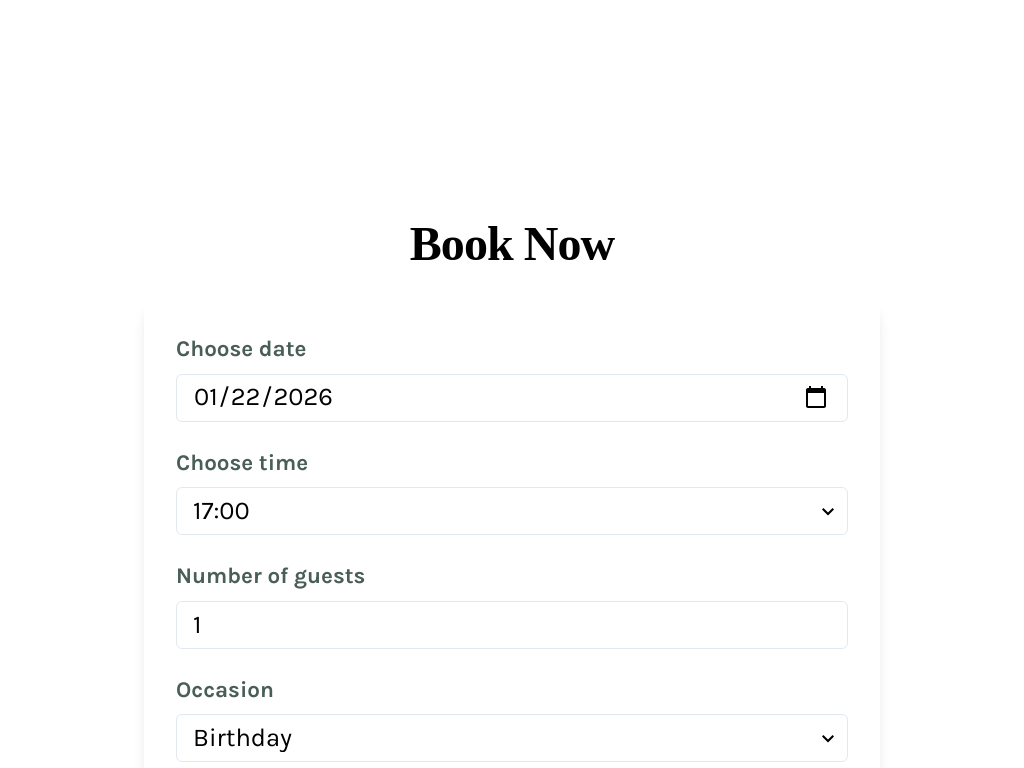
Scenario: BookingForm › Validation fields - guests must be at least 1
Clear the field and set invalid value
Type "0" into the number field with test id "guests" at [512, 625], box [176,601,848,649]
(page scrolled)
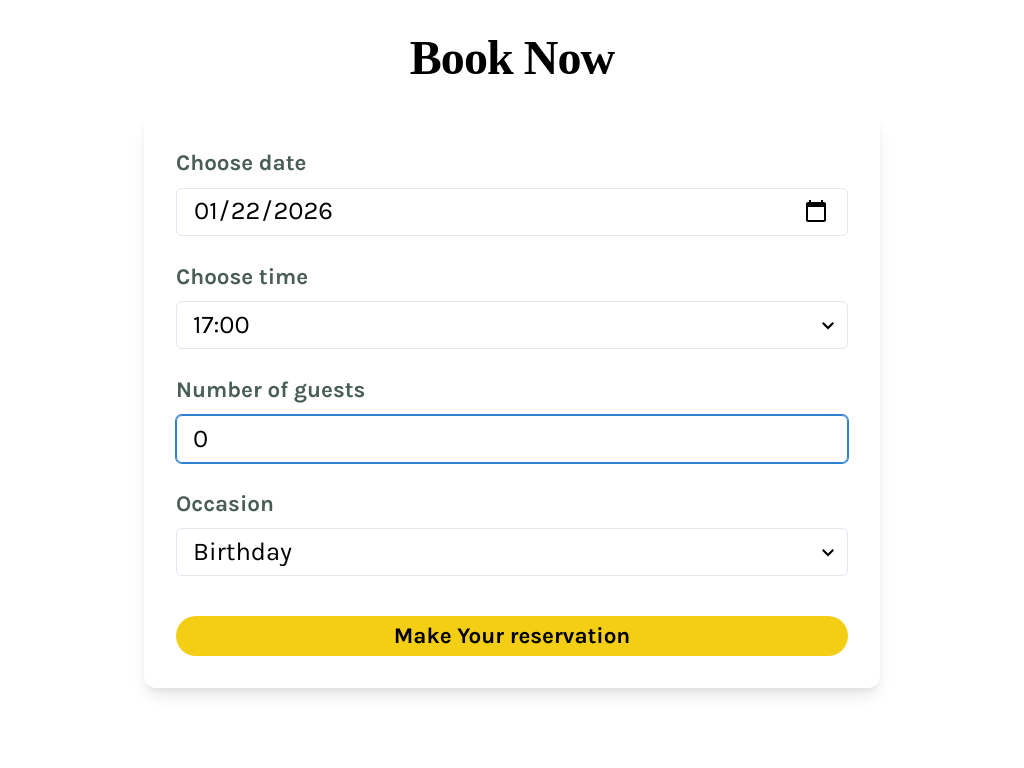
Submit the form
Click the button "Make Your reservation" at [512, 636], box [176,616,848,656]
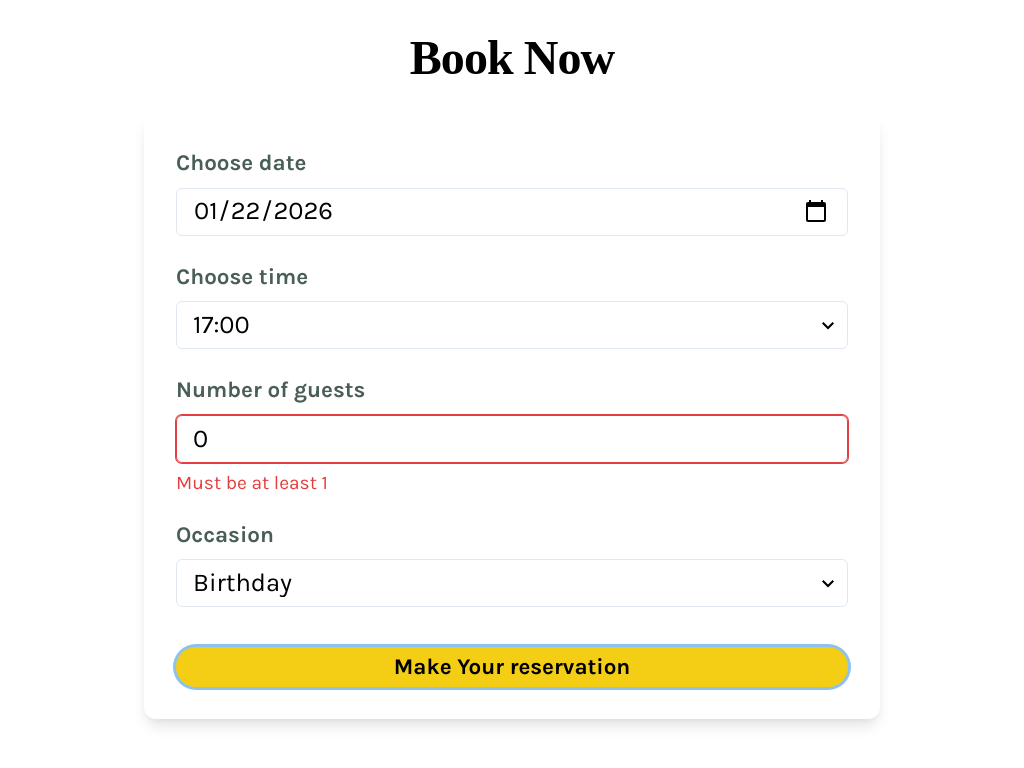
Now the text with test id "guests-error" reads "Must be at least 1", box [176,471,328,494]
